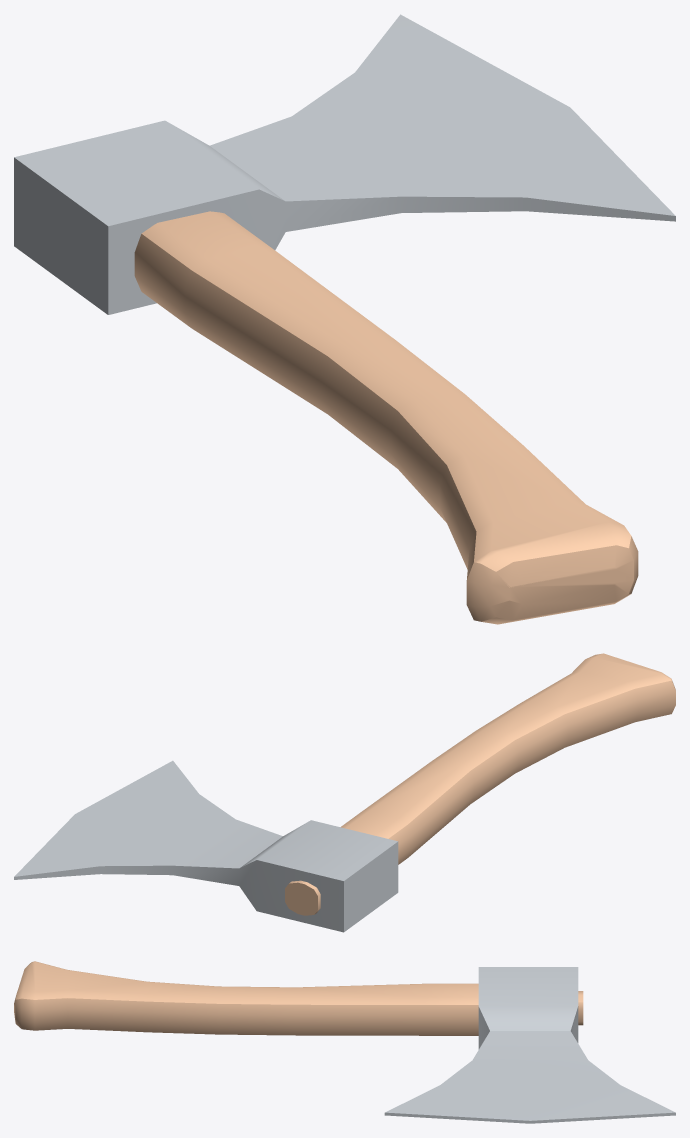
The model's file is Axe.fbx.
3 views of the same model, one above another, from view 1: azimuth 30°, elevation 25°; view 2: azimuth 150°, elevation 25°; view 3: azimuth 270°, elevation 25° (orthographic). The views are drawn at different scales.
Visible parts, largest first — view 1: Axe; view 2: Axe; view 3: Axe.
Boxes of the visible parts, x1,y1,x2,y2 form: Axe: [14, 14, 675, 624]; Axe: [14, 653, 675, 932]; Axe: [14, 961, 675, 1123].
Bounding box in the file's own units: 2.55 × 0.3783 × 4.83.
1 material, 1 textured.
